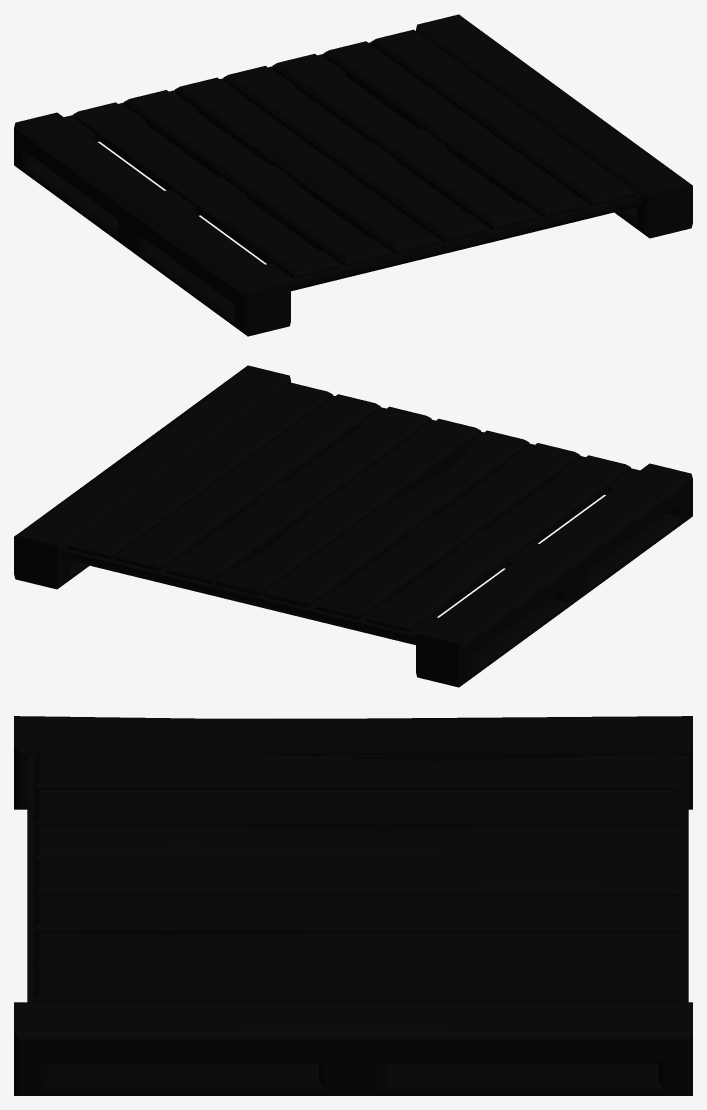
Rendered from Palett.fbx.
3 renders of one model, top to bottom at view 1: azimuth 30°, elevation 25°; view 2: azimuth 150°, elevation 25°; view 3: azimuth 270°, elevation 25°, orthographic. The views are drawn at different scales.
Parts seen in each view (by area): view 1: Pallet; view 2: Pallet; view 3: Pallet.
Part boxes in pixels (x1=…): Pallet: x1=14, y1=14, x2=692, y2=336; Pallet: x1=14, y1=365, x2=692, y2=687; Pallet: x1=14, y1=716, x2=692, y2=1095.
Size of the model in its own units: 732 by 70.88 by 655.
